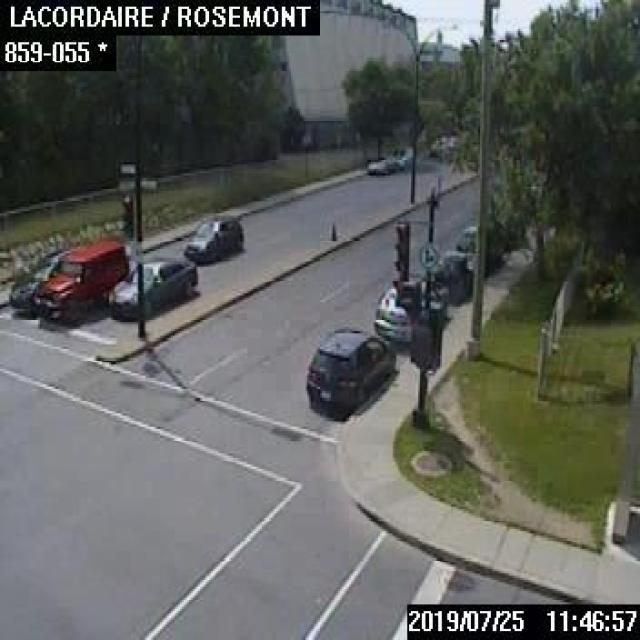vehicle: (305, 328, 395, 420), (33, 240, 129, 321), (107, 257, 196, 315), (374, 278, 447, 338), (8, 248, 70, 308), (182, 214, 242, 260), (430, 251, 470, 303), (428, 135, 460, 157), (388, 145, 412, 169), (455, 224, 474, 251), (364, 158, 392, 172)
